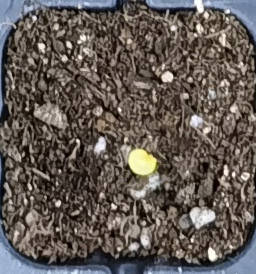pepper seed: (49, 61, 207, 237)
